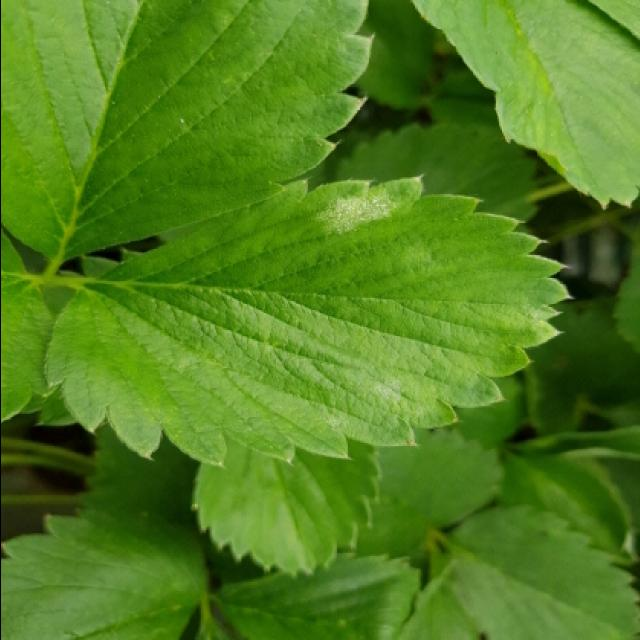Powdery Mildew Leaf: (42, 173, 573, 470)
